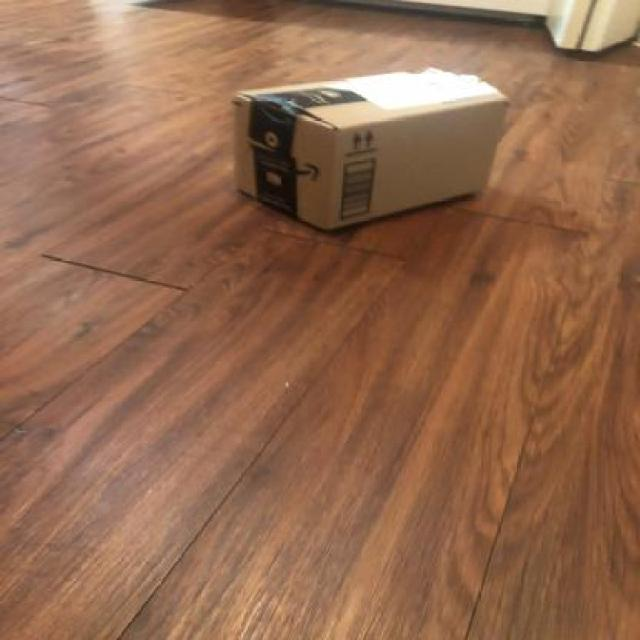cardboxes: (224, 64, 513, 239)
